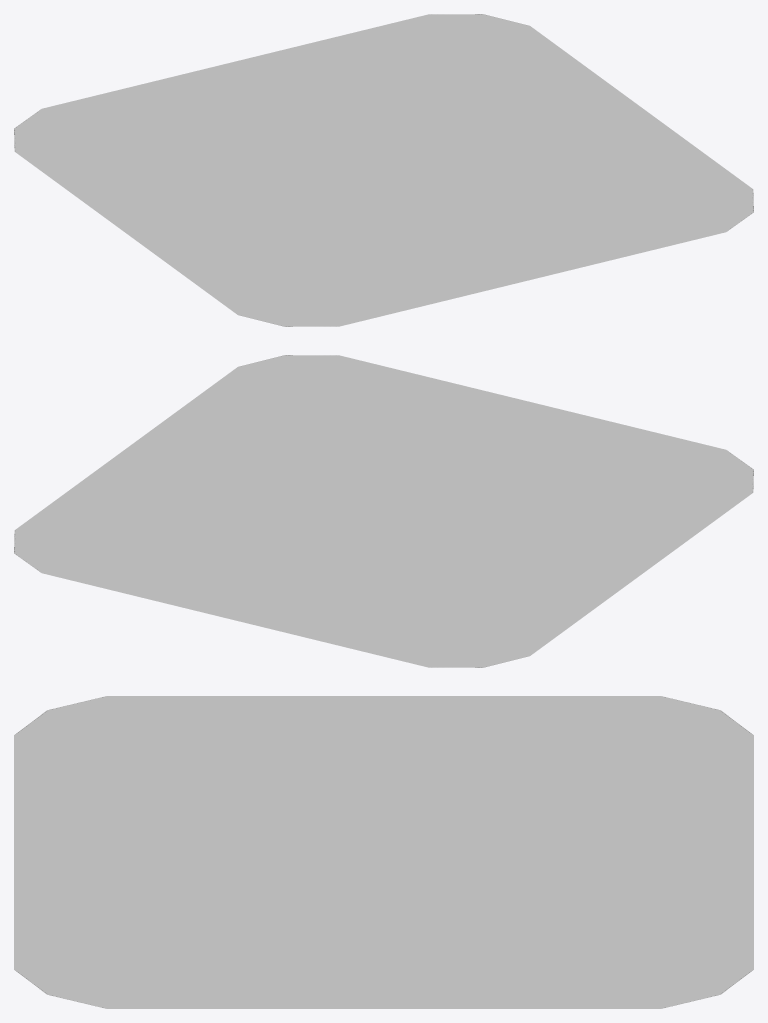
The model's file is shadow_monster.fbx.
3 views of the same model, one above another, from view 1: azimuth 30°, elevation 25°; view 2: azimuth 150°, elevation 25°; view 3: azimuth 270°, elevation 25° (orthographic). The views are drawn at different scales.
Visible parts, largest first — view 1: shadow_monster; view 2: shadow_monster; view 3: shadow_monster.
Part boxes in pixels (<box>): shadow_monster: <box>14,14,753,326</box>; shadow_monster: <box>14,355,753,667</box>; shadow_monster: <box>14,696,753,1008</box>.
Size of the model in its own units: 1 by 1.63e-07 by 1.
1 material, 1 textured.
